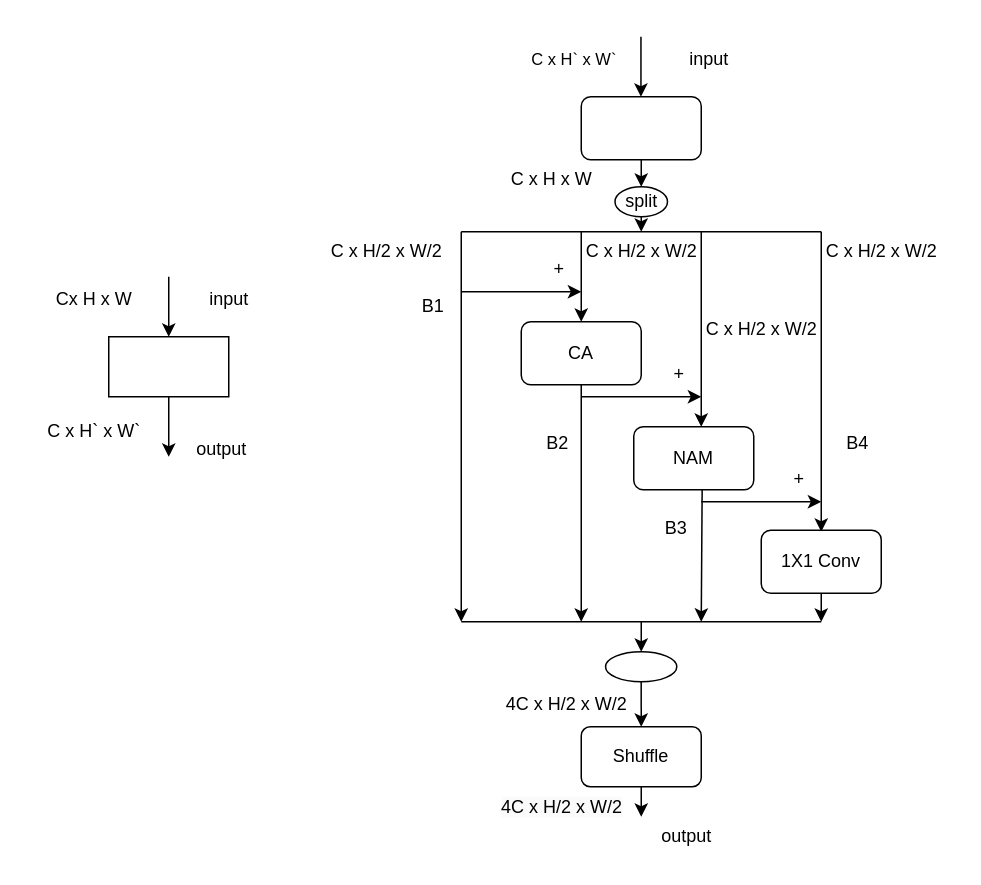
This 981x885 diagram has some shape labels left out. The centre of each missing label's shape, as x and y in pixels:
"3x3 Conv s=1" belongs at pixel 640 127.
"3x3 Conv s=2" belongs at pixel 168 366.
"concat" belongs at pixel 640 666.
